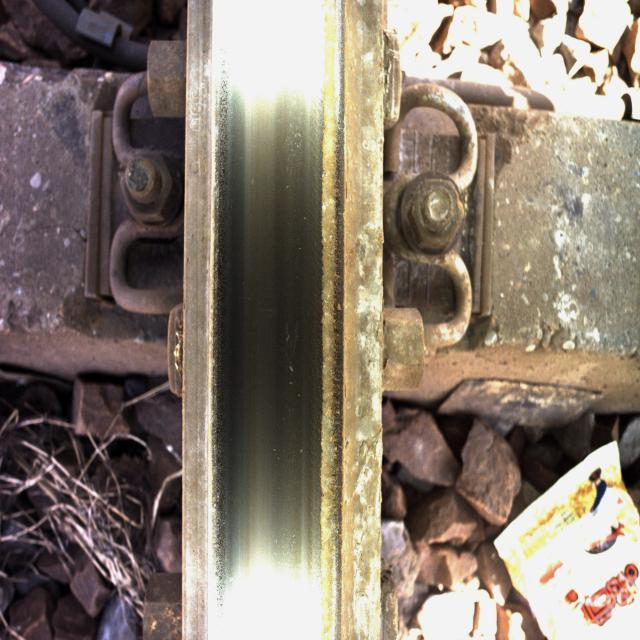normal: (225, 48, 301, 622)
